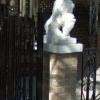Statue: (40, 1, 85, 60)
